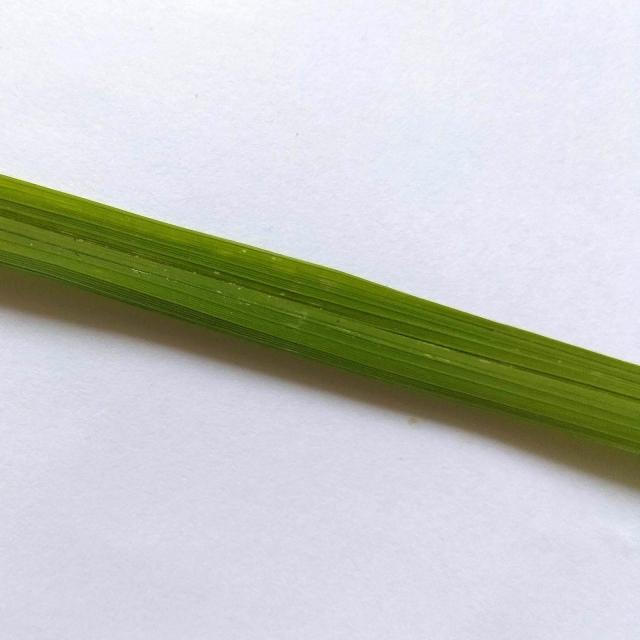healthy: (0, 128, 640, 484)
